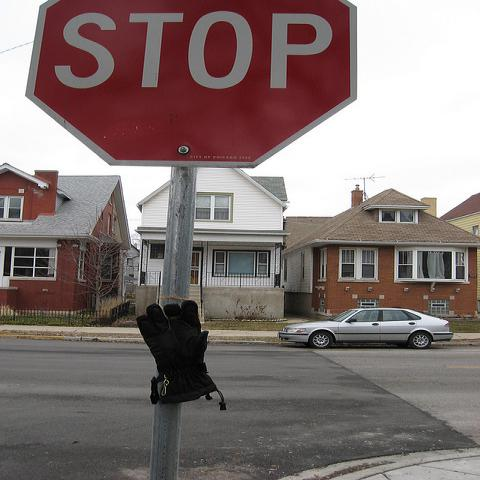car: (276, 308, 454, 349)
